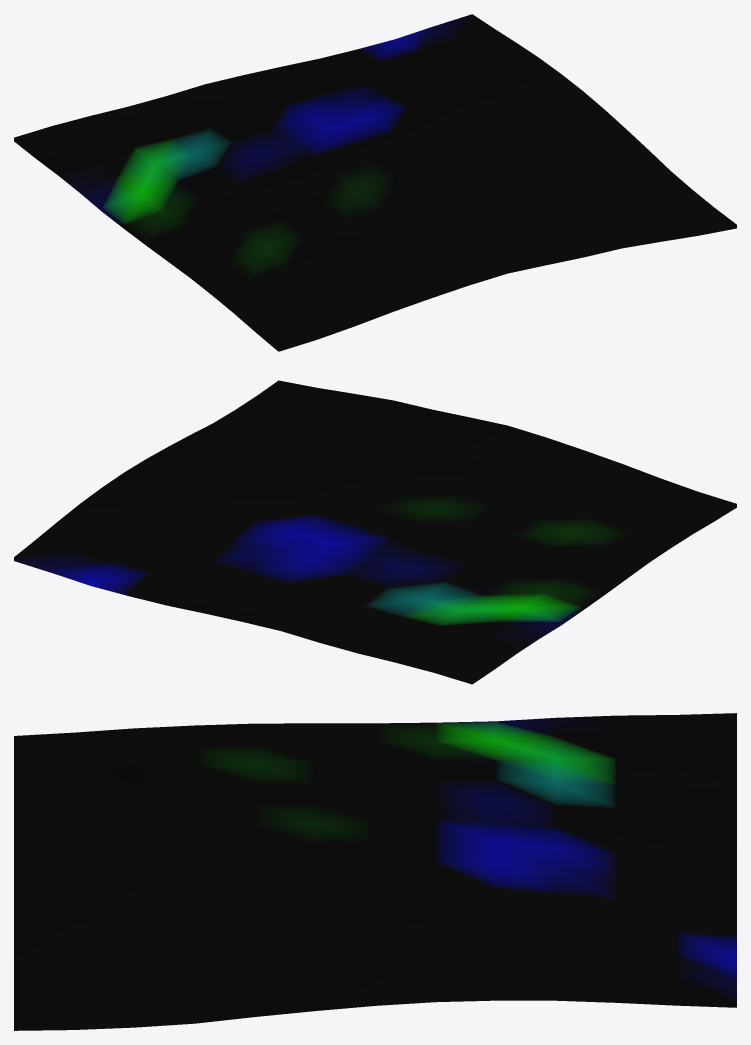
Rendered from coast_20_3.glb.
The picture shows the model from 3 angles, top to bottom: view 1: azimuth 30°, elevation 25°; view 2: azimuth 150°, elevation 25°; view 3: azimuth 270°, elevation 25°; orthographic projection. The views are drawn at different scales.
Parts seen in each view (by area): view 1: terrain; view 2: terrain; view 3: terrain.
Part boxes in pixels (left/top/right/bottom): terrain: left=14, top=14, right=736, bottom=351; terrain: left=14, top=380, right=736, bottom=684; terrain: left=14, top=713, right=736, bottom=1030.
Bounding box in the file's own units: 192 × 16.78 × 192.
